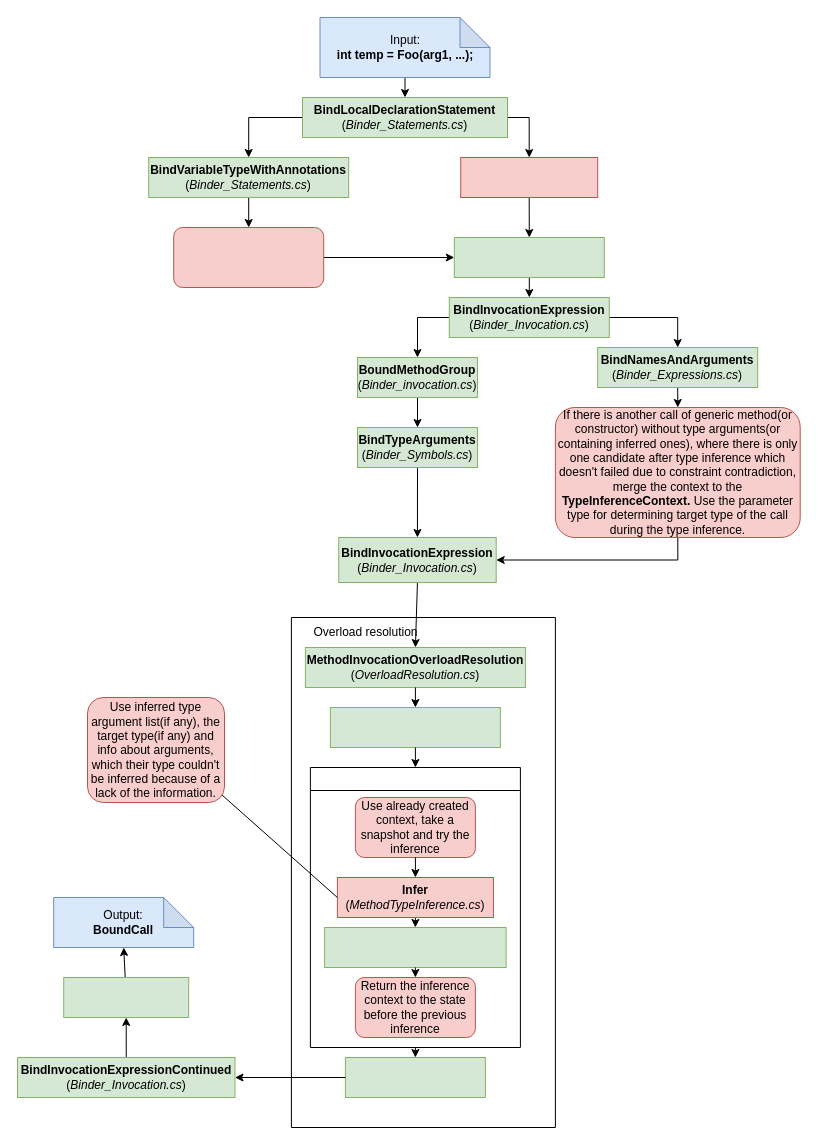
This 818x1145 diagram has some shape labels left out. The shapes that lost their labels are listed below. From the top down, each one's box as (x1, y1, x2, y2) in pixels, then its label:
(460, 156, 598, 198): Create TypeInferenceContext
(173, 226, 324, 288): Pass the result into BindVariableDeclaration
(453, 236, 604, 278): BindVariableDeclaration ( Binder_Statements.cs )
(329, 706, 500, 748): AddMemberToCandidateSet ( OverloadResolution.cs )
(309, 766, 520, 1048): IsApplicable (OverloadResolution.cs)
(324, 926, 506, 968): CheckArgumentForApplicability ( OverloadResolutions.cs )
(63, 976, 189, 1018): CoerceArguments ( Binder_Expression.cs )
(344, 1056, 485, 1098): Choose best candidate ( OverloadResolution.cs )
